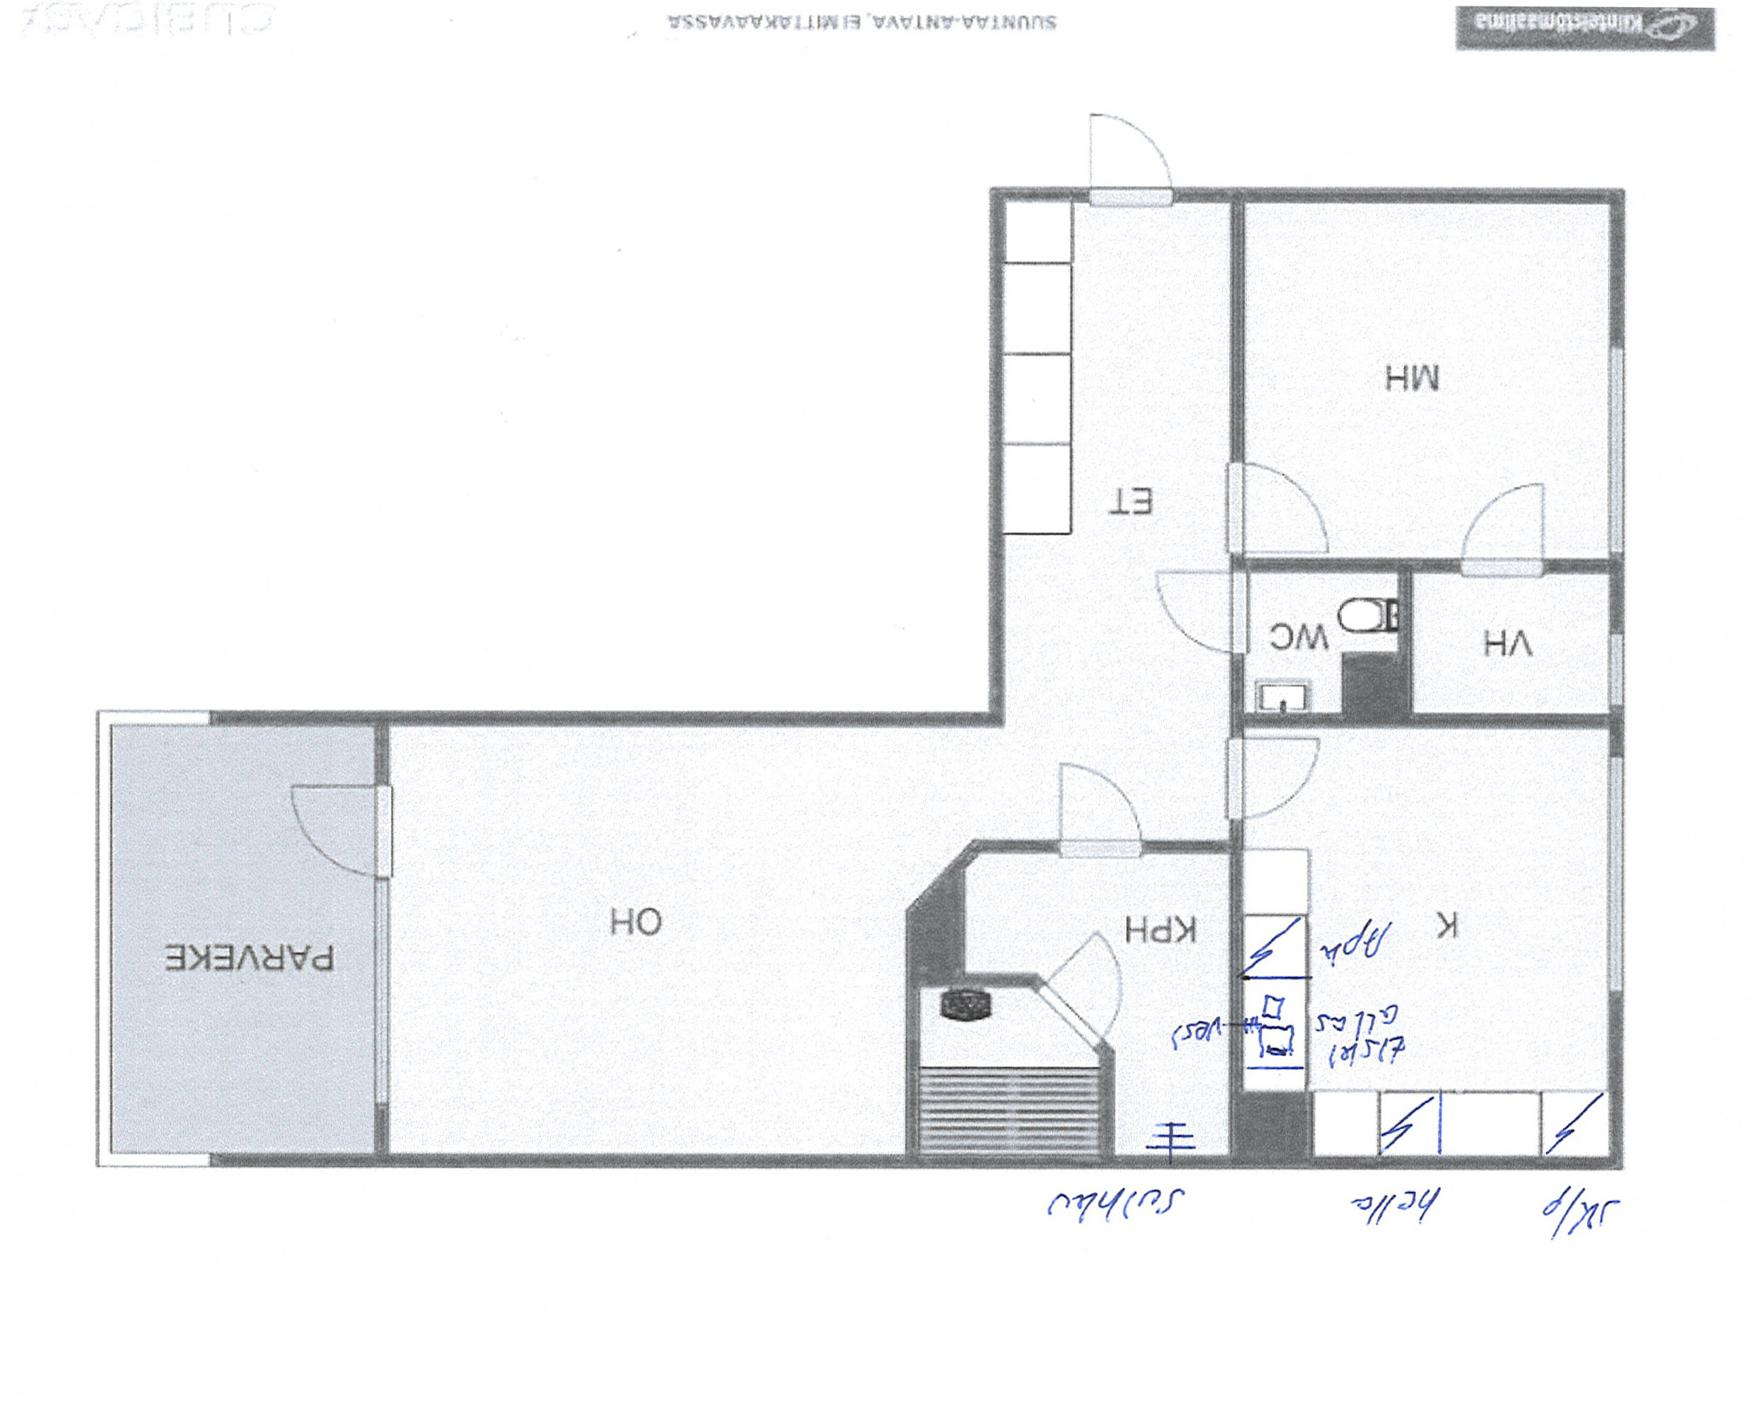door: (286, 776, 402, 879), (1037, 927, 1130, 1051), (1049, 756, 1150, 865), (1223, 464, 1340, 556), (1081, 104, 1182, 209), (1155, 563, 1258, 659), (1462, 470, 1553, 578), (1227, 730, 1326, 826)
window: (1603, 741, 1633, 1007), (364, 871, 396, 1117), (1606, 335, 1630, 567), (1606, 625, 1630, 715)
